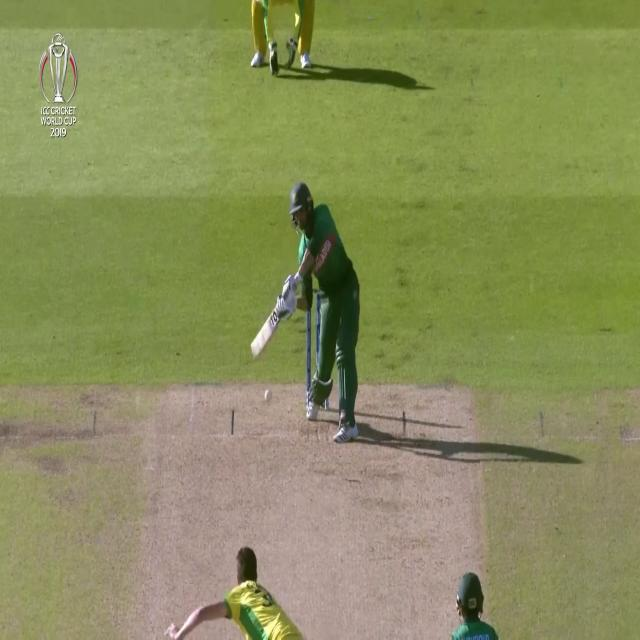ball: (262, 385, 276, 407)
